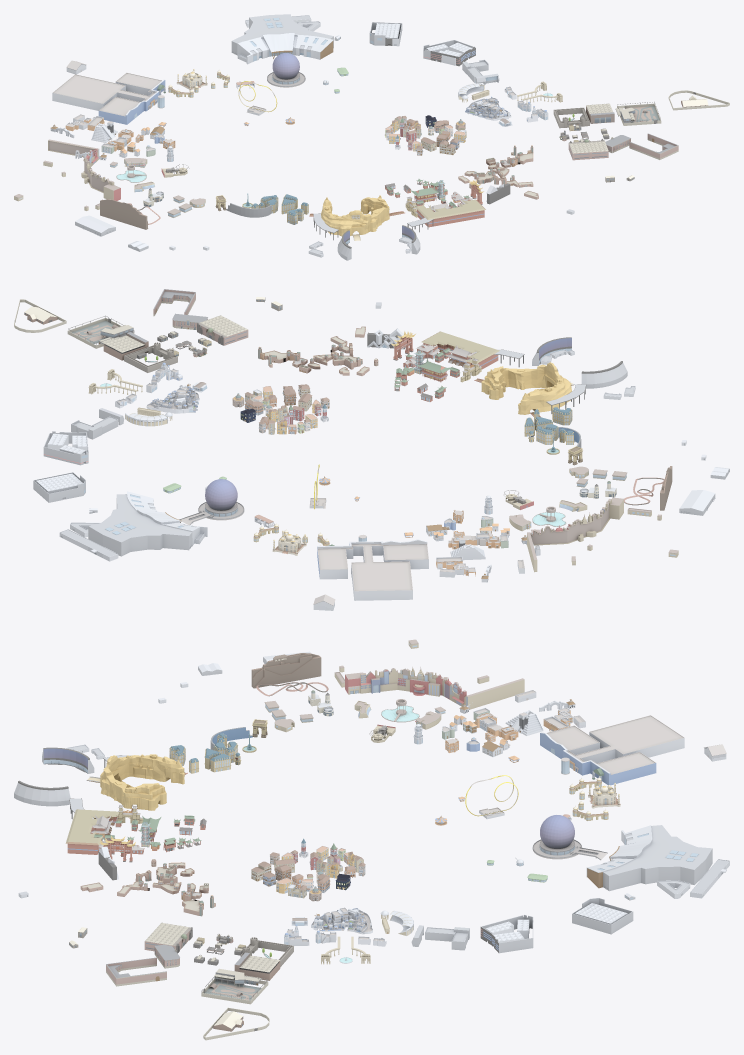
The model's file is Boulevard-World.glb.
3 renders of one model, top to bottom at view 1: azimuth 30°, elevation 25°; view 2: azimuth 150°, elevation 25°; view 3: azimuth 270°, elevation 25°, orthographic. The views are drawn at different scales.
Visible parts, largest first — view 1: 70030076680675275.001, 70030076681980009.001, Boulevard_World_The_Input_baked, 70030076677052864_baked, 70030076680622314.001, 70030076683081643.001, Boulevard_World_The_Sphere_baked, 70030076680766546.001, 70030076682031053_baked, 70030076680643201.001, 70030076681990810_baked, 70030076682032647_s (+9 smaller); view 2: 70030076680675275.001, 70030076681980009.001, Boulevard_World_The_Input_baked, 70030076677052864_baked, Boulevard_World_The_Sphere_baked, 70030076682031053_baked, 70030076689079461.001, 70030076680622314.001, 70030076680766546.001, 70030076680643201.001, 70030076681990810_baked, 70030076682032647_s (+12 smaller); view 3: 70030076680675275.001, 70030076681980009.001, 70030076677052864_baked, Boulevard_World_The_Input_baked, 70030076683081643.001, Boulevard_World_The_Sphere_baked, 70030076682031053_baked, 70030076680766546.001, 70030076680622314.001, 70030076689080724.001, 70030076681990810_baked, 70030076682032647_s (+8 smaller).
Part boxes in pixels (bbox=[...]): 70030076680675275.001: bbox=[52, 72, 165, 124]; 70030076681980009.001: bbox=[231, 14, 333, 64]; Boulevard_World_The_Input_baked: bbox=[309, 195, 404, 240]; 70030076677052864_baked: bbox=[48, 139, 120, 200]; 70030076680622314.001: bbox=[415, 199, 485, 227]; 70030076683081643.001: bbox=[100, 199, 160, 229]; Boulevard_World_The_Sphere_baked: bbox=[267, 53, 305, 87]; 70030076680766546.001: bbox=[617, 101, 661, 125]; 70030076682031053_baked: bbox=[369, 22, 402, 46]; 70030076680643201.001: bbox=[568, 139, 608, 160]; 70030076681990810_baked: bbox=[465, 96, 511, 120]; 70030076682032647_s: bbox=[423, 40, 475, 66]; 70030076680675275.001: bbox=[317, 539, 428, 600]; 70030076681980009.001: bbox=[88, 491, 207, 556]; Boulevard_World_The_Input_baked: bbox=[474, 362, 574, 416]; 70030076677052864_baked: bbox=[527, 497, 623, 572]; Boulevard_World_The_Sphere_baked: bbox=[179, 479, 244, 525]; 70030076682031053_baked: bbox=[33, 472, 85, 502]; 70030076689079461.001: bbox=[546, 361, 627, 413]; 70030076680622314.001: bbox=[421, 331, 499, 369]; 70030076680766546.001: bbox=[67, 315, 134, 348]; 70030076680643201.001: bbox=[197, 315, 248, 345]; 70030076681990810_baked: bbox=[146, 384, 199, 413]; 70030076682032647_s: bbox=[43, 431, 88, 465]; 70030076680675275.001: bbox=[540, 715, 684, 785]; 70030076681980009.001: bbox=[586, 825, 712, 891]; 70030076677052864_baked: bbox=[345, 667, 524, 709]; Boulevard_World_The_Input_baked: bbox=[86, 754, 187, 818]; 70030076683081643.001: bbox=[251, 653, 328, 696]; Boulevard_World_The_Sphere_baked: bbox=[532, 815, 607, 860]; 70030076682031053_baked: bbox=[572, 898, 633, 934]; 70030076680766546.001: bbox=[201, 968, 268, 1004]; 70030076680622314.001: bbox=[65, 809, 118, 854]; 70030076689080724.001: bbox=[14, 780, 94, 819]; 70030076681990810_baked: bbox=[311, 907, 372, 934]; 70030076682032647_s: bbox=[480, 914, 533, 953].
Bounding box in the file's own units: 905 × 38.83 × 691.
Materials: 176 (176 with a texture image).
